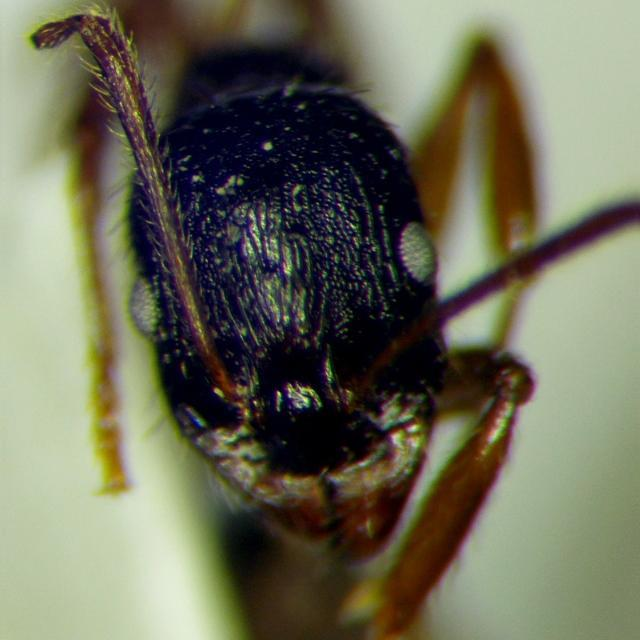Apheanogaster: (11, 4, 612, 600)
